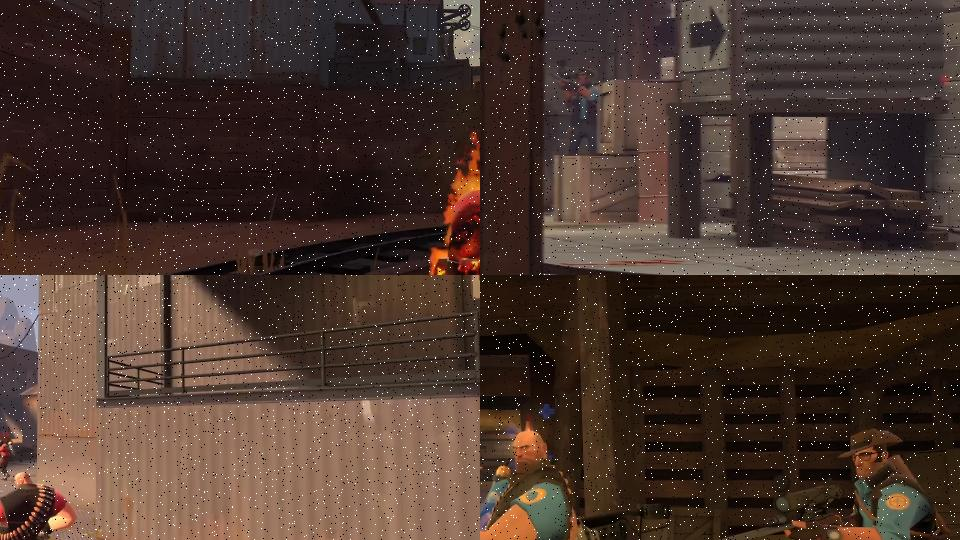Enemy: (710, 424, 953, 540), (0, 468, 80, 540), (546, 59, 602, 159), (0, 438, 20, 482)
